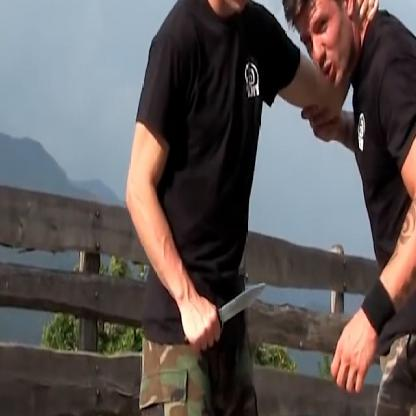knife: (182, 272, 273, 358)
